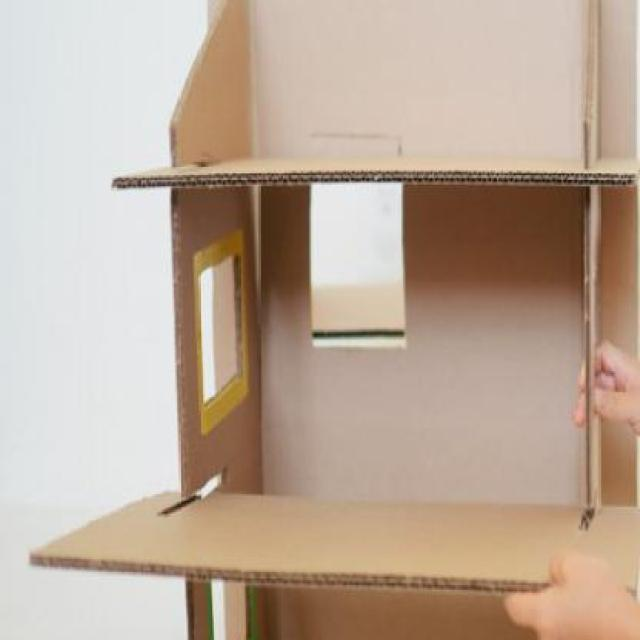box: (24, 0, 638, 640)
